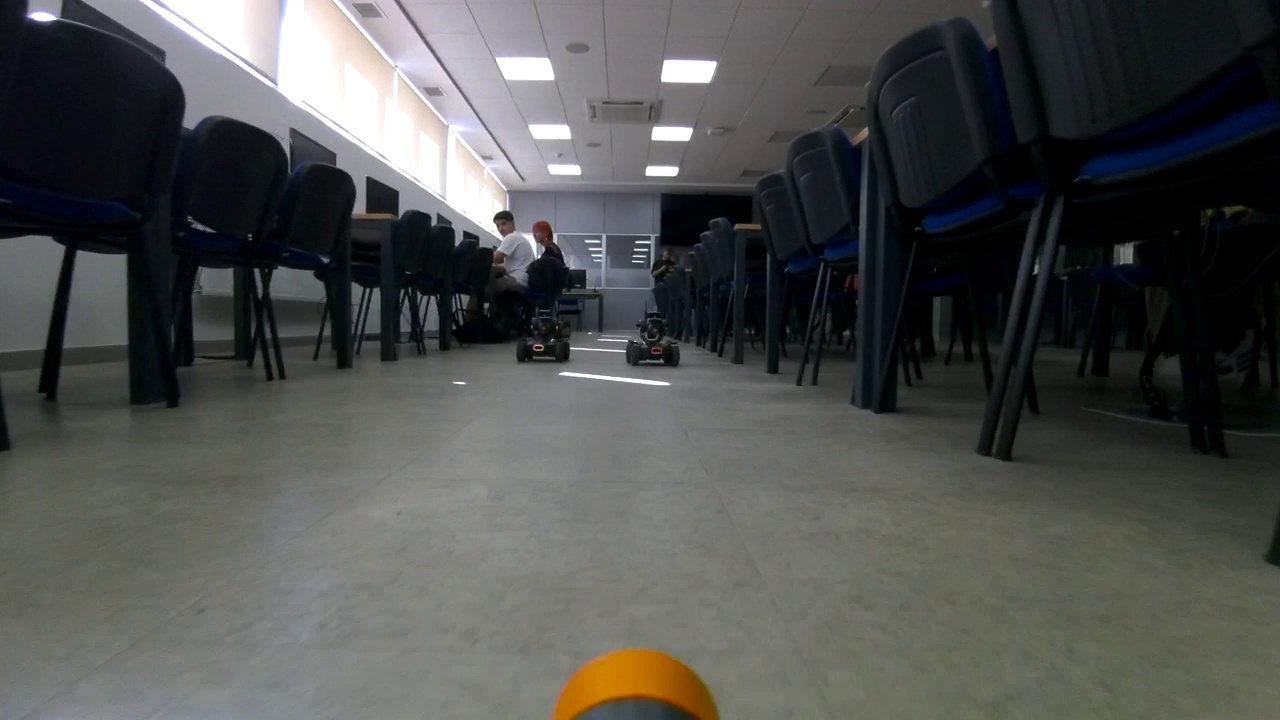robot: (627, 307, 686, 369), (513, 313, 577, 360)
